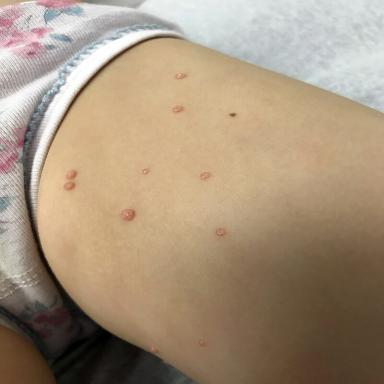Molluscum-Contagiosum: (121, 209, 135, 221), (66, 170, 77, 179), (172, 105, 183, 114), (64, 182, 75, 190), (175, 72, 187, 79), (200, 172, 209, 180), (216, 229, 225, 236), (150, 347, 159, 353), (142, 168, 149, 174), (199, 340, 206, 346)
